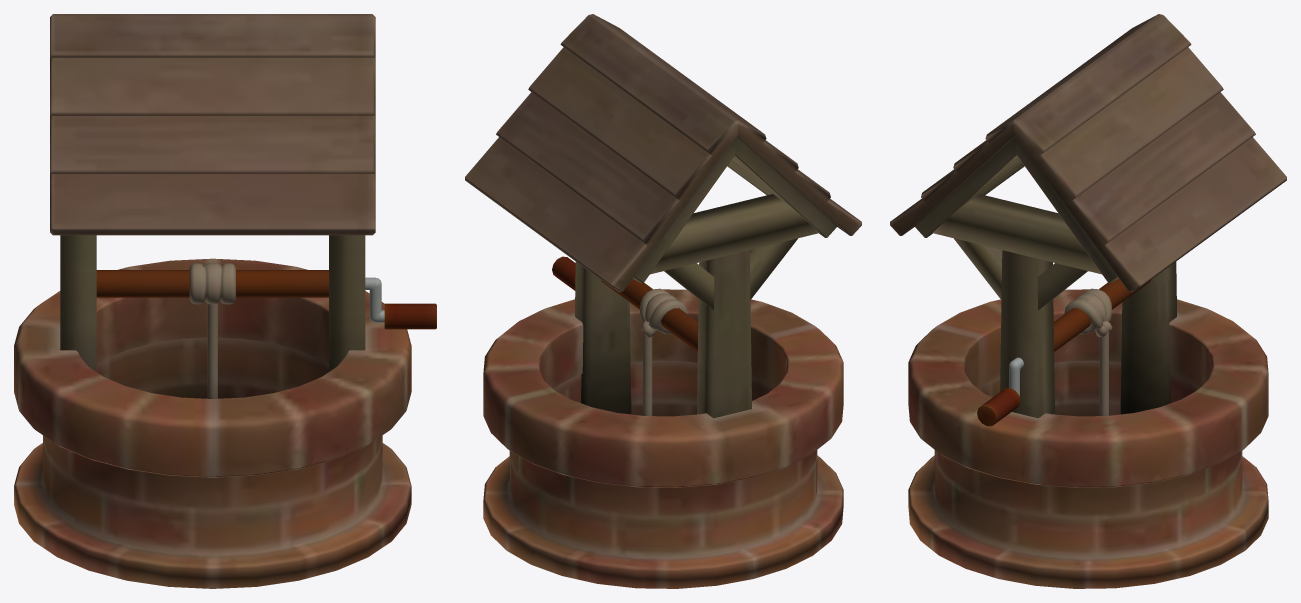
The model's file is brick-well.glb.
3 views of the same model, side by side, from view 1: azimuth 30°, elevation 25°; view 2: azimuth 150°, elevation 25°; view 3: azimuth 270°, elevation 25° (orthographic). The views are drawn at different scales.
Size of the model in its own units: 14.48 by 17.82 by 14.4.
1 material, 1 textured.
